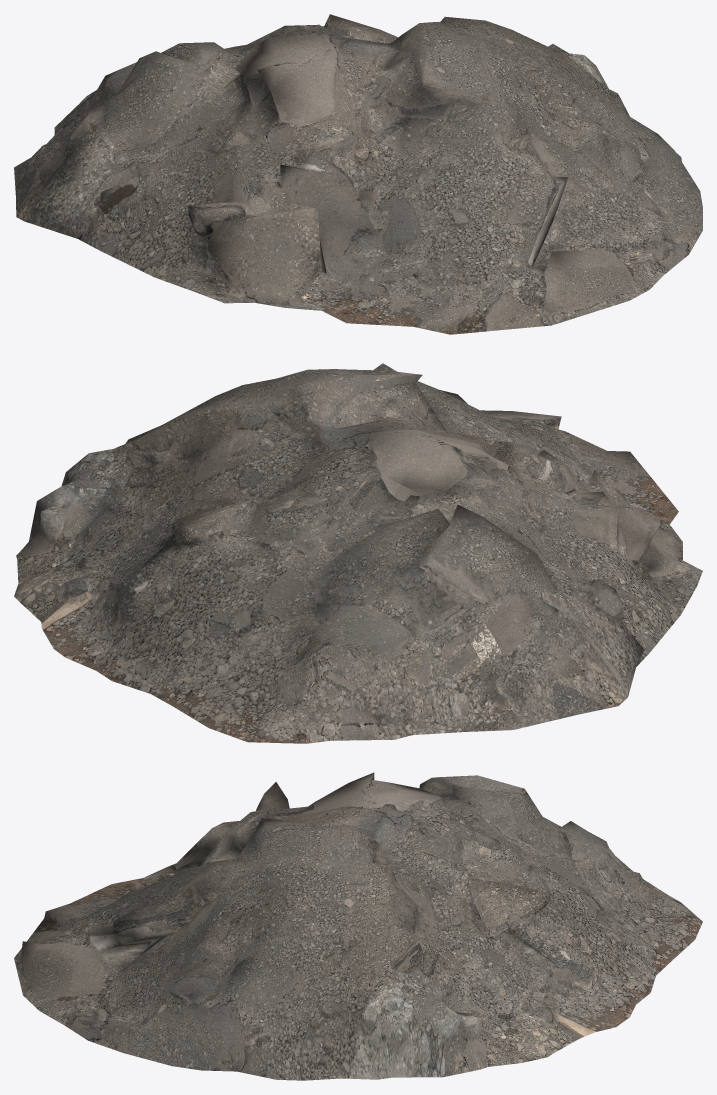
The model's file is SM_Stage_Final_Pile_01.fbx.
3 views of the same model, one above another, from view 1: azimuth 30°, elevation 25°; view 2: azimuth 150°, elevation 25°; view 3: azimuth 270°, elevation 25° (orthographic). The views are drawn at different scales.
Parts seen in each view (by area): view 1: SM_Stage_Final_Pile_01; view 2: SM_Stage_Final_Pile_01; view 3: SM_Stage_Final_Pile_01.
Part boxes in pixels (bbox=[...]): SM_Stage_Final_Pile_01: bbox=[14, 14, 702, 334]; SM_Stage_Final_Pile_01: bbox=[14, 363, 702, 743]; SM_Stage_Final_Pile_01: bbox=[14, 772, 702, 1080].
Bounding box in the file's own units: 189 × 52.6 × 210.
1 material, 1 textured.
